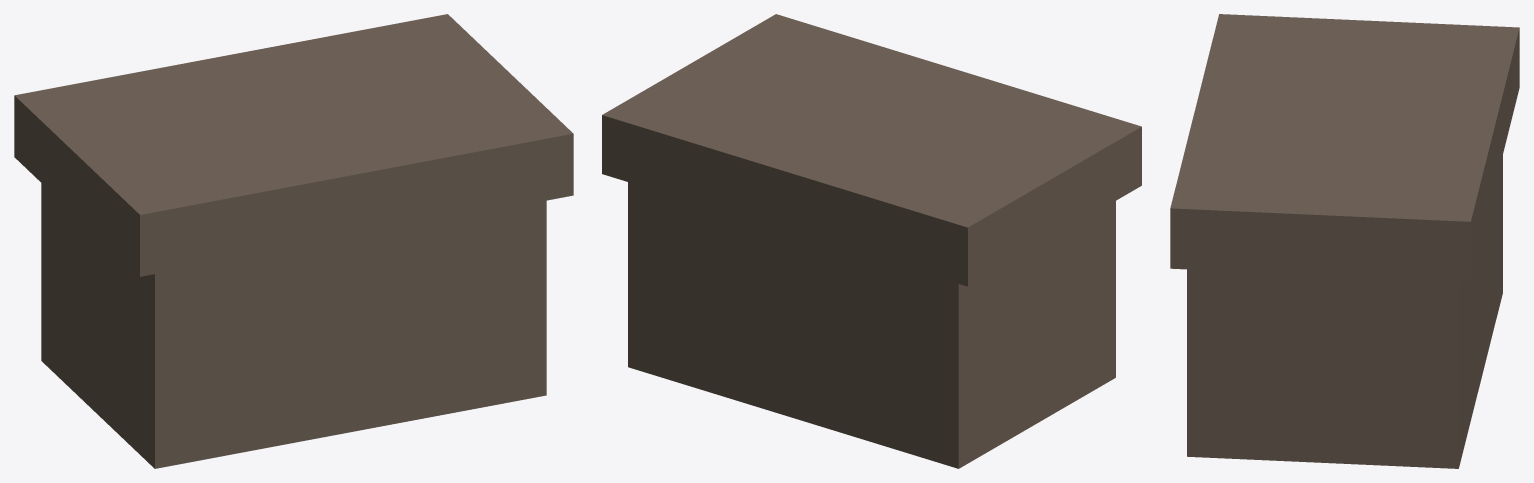
The model's file is karton.fbx.
3 renders of one model, left to right at view 1: azimuth 30°, elevation 25°; view 2: azimuth 150°, elevation 25°; view 3: azimuth 270°, elevation 25°, orthographic. The views are drawn at different scales.
Parts seen in each view (by area): view 1: karton2; view 2: karton2; view 3: karton2.
Boxes of the visible parts, bbox=[...] form: karton2: bbox=[14, 14, 573, 468]; karton2: bbox=[602, 14, 1141, 468]; karton2: bbox=[1170, 14, 1519, 468].
Bounding box in the file's own units: 205 × 289 × 167.
